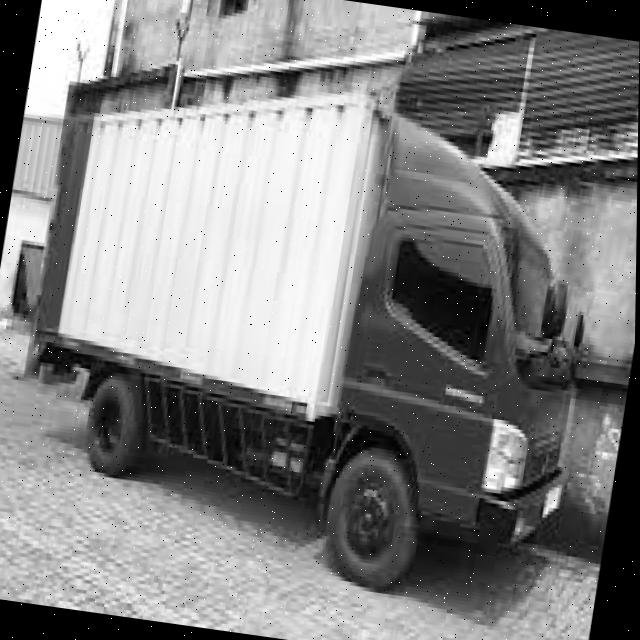truck: (279, 93, 640, 622)
